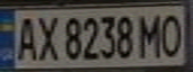2: (78, 12, 100, 61)
3: (100, 12, 118, 61)
8: (60, 12, 84, 61), (115, 11, 139, 60)
A: (12, 12, 39, 62)
M: (136, 10, 166, 58)
O: (157, 10, 187, 57)
X: (33, 12, 60, 62)
